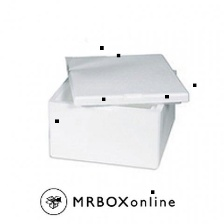foam_box: (41, 46, 195, 174)
